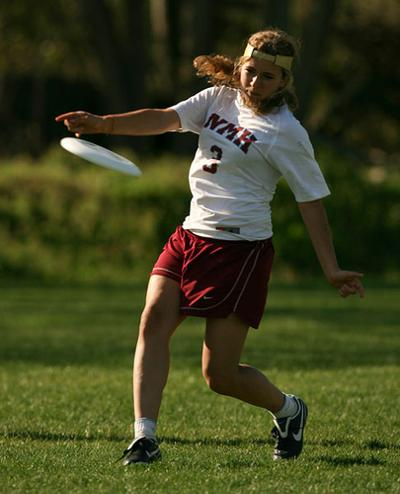person: (55, 32, 366, 467)
